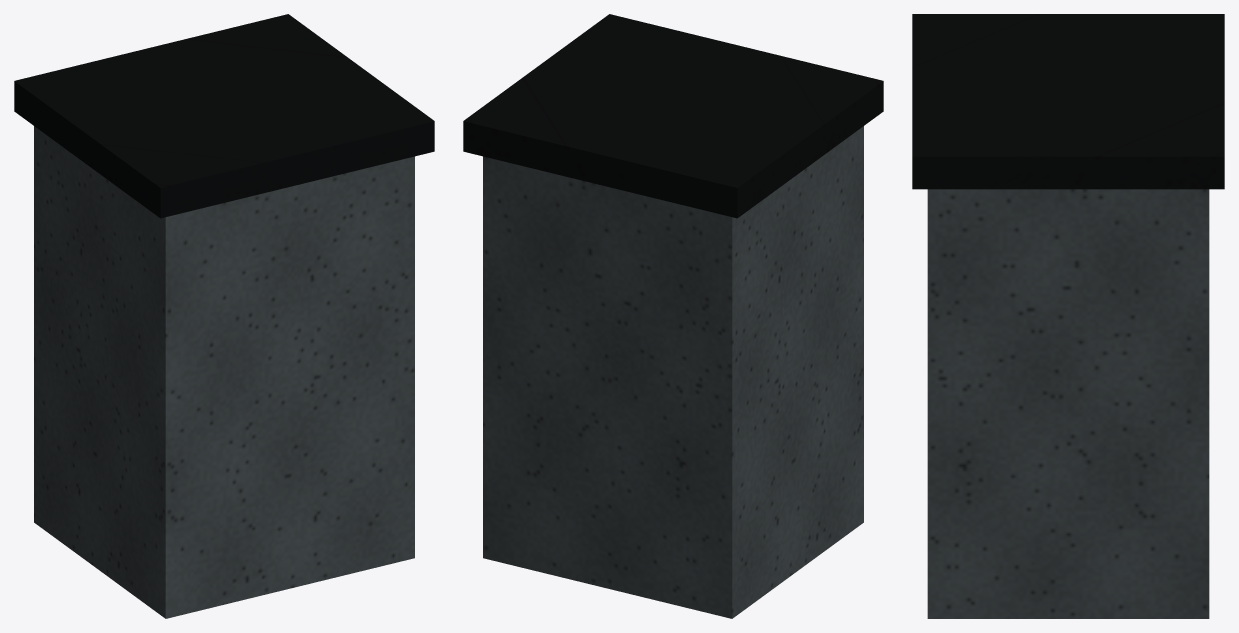
Rendered from PROP-5233094C648C_lod2.glb.
3 renders of one model, left to right at view 1: azimuth 30°, elevation 25°; view 2: azimuth 150°, elevation 25°; view 3: azimuth 270°, elevation 25°, orthographic. The views are drawn at different scales.
Visible parts, largest first — view 1: waste_container.003, bin_lid.003; view 2: waste_container.003, bin_lid.003; view 3: waste_container.003, bin_lid.003.
Boxes of the visible parts, <box> form: waste_container.003: <box>34,126,414,618</box>; bin_lid.003: <box>14,14,434,218</box>; waste_container.003: <box>483,126,863,618</box>; bin_lid.003: <box>463,14,883,218</box>; waste_container.003: <box>927,189,1209,618</box>; bin_lid.003: <box>912,14,1224,189</box>.
Size of the model in its own units: 0.66 by 1.01 by 0.61.
Materials: 2 (2 with a texture image).
